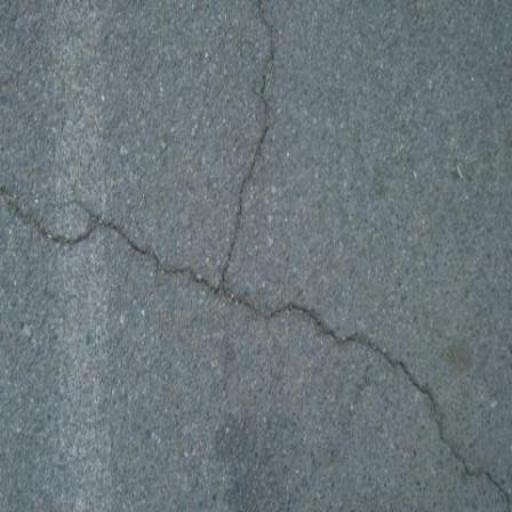spalling: (7, 190, 503, 502), (212, 8, 296, 293)
